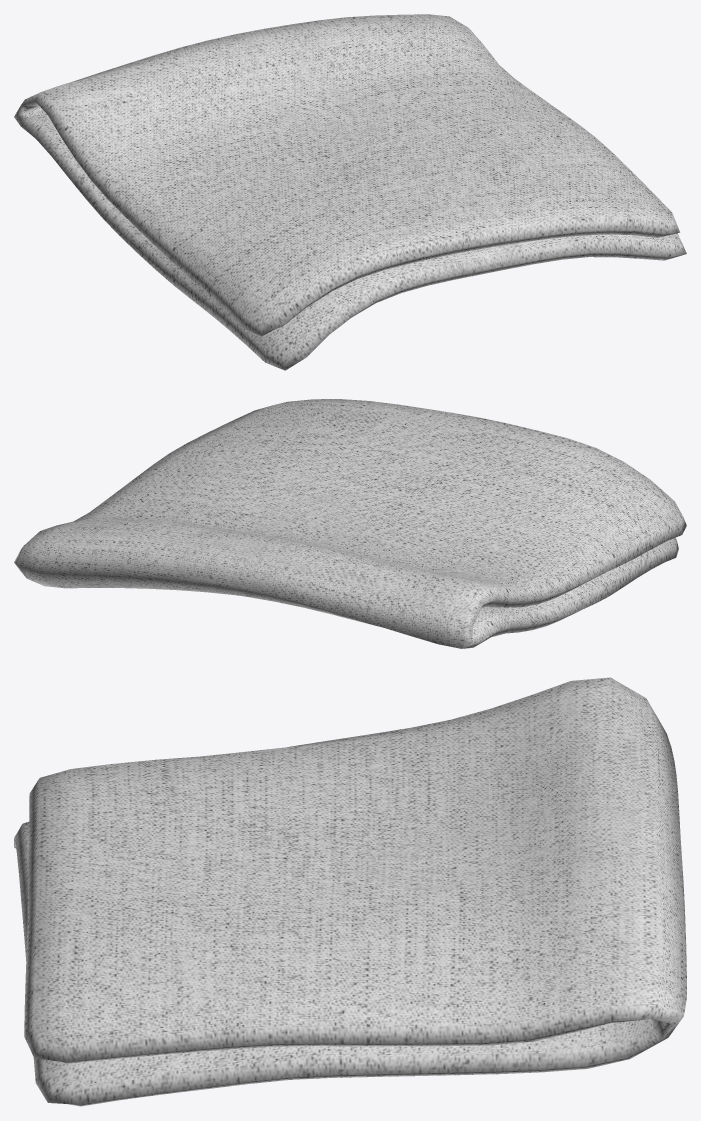
The model's file is fabric.FBX.
3 views of the same model, one above another, from view 1: azimuth 30°, elevation 25°; view 2: azimuth 150°, elevation 25°; view 3: azimuth 270°, elevation 25° (orthographic). The views are drawn at different scales.
Visible parts, largest first — view 1: Arch30_032_00; view 2: Arch30_032_00; view 3: Arch30_032_00.
Boxes of the visible parts, left/top/right/bottom form: Arch30_032_00: left=14, top=14, right=686, bottom=370; Arch30_032_00: left=14, top=399, right=686, bottom=648; Arch30_032_00: left=14, top=677, right=686, bottom=1106.
Size of the model in its own units: 10.5 by 2.76 by 10.23.
1 material, 1 textured.
